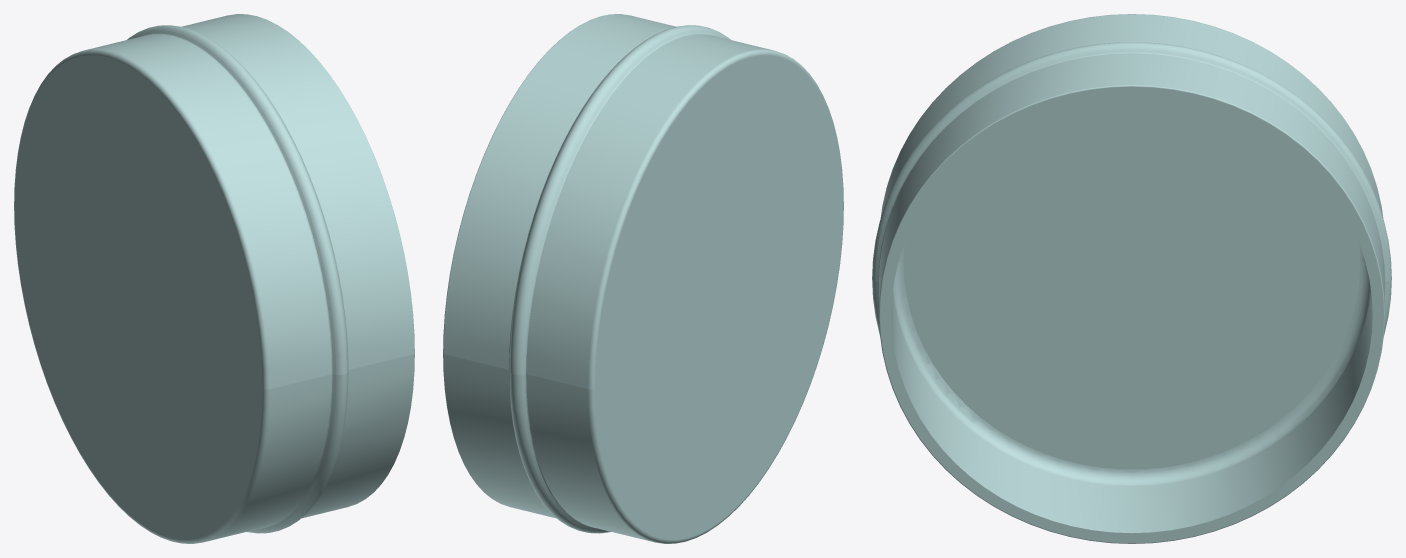
3 renders of one model, left to right at view 1: azimuth 30°, elevation 25°; view 2: azimuth 150°, elevation 25°; view 3: azimuth 270°, elevation 25°, orthographic.
Size of the model in its own units: 70 by 210 by 210.
